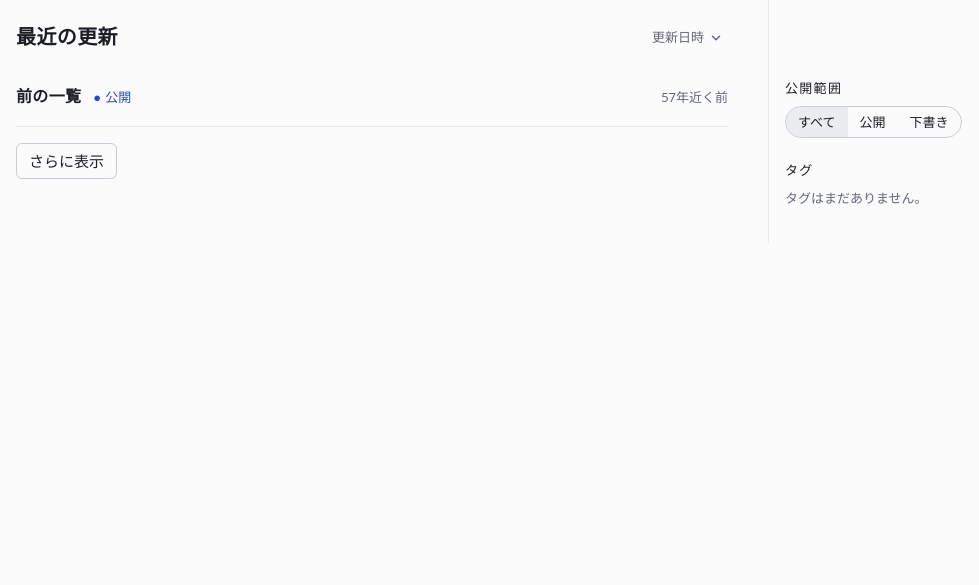
Scenario: 条件を変えて取り直している間の一覧 › 「さらに表示」は読み込み中も同じ文字で disabled のまま、末尾にスケルトンの行を足す
Expected: the list item with class "entry" is shown, [16, 67, 728, 127]
Click the button "さらに表示": point(66, 161) [16, 143, 117, 179]
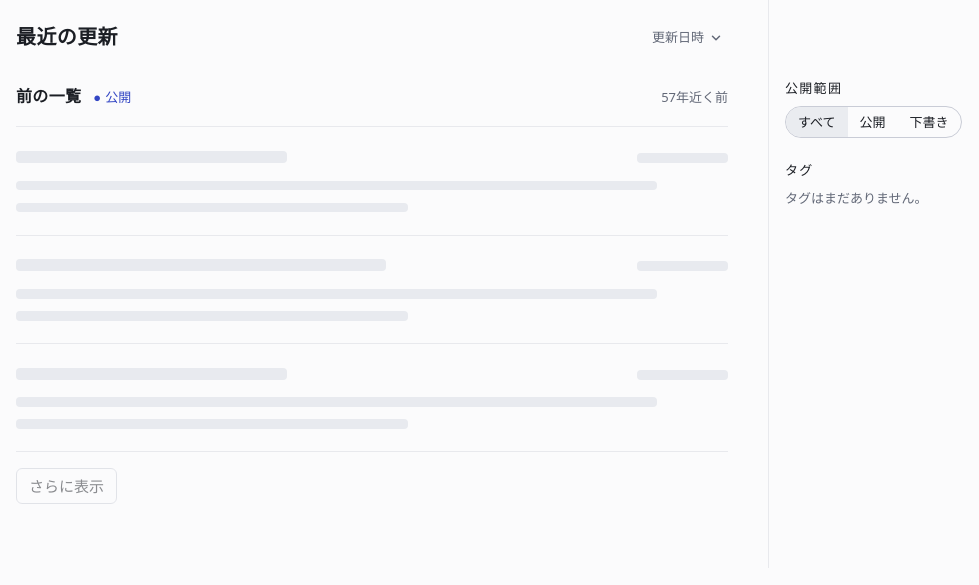
Expected: the button "さらに表示" is shown, [16, 468, 117, 504]
Expected: the button "さらに表示" is disabled, [16, 468, 117, 504]
